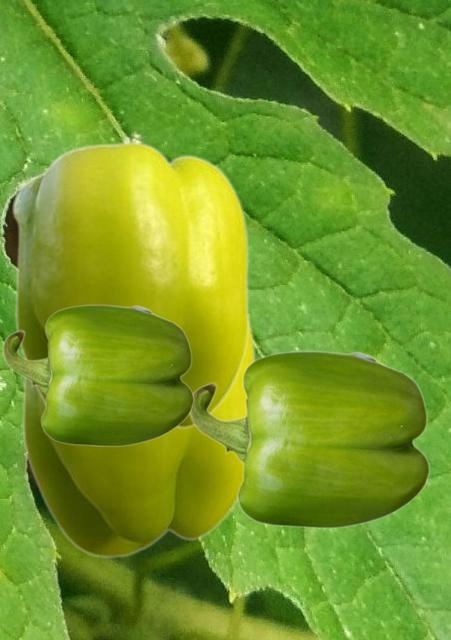bell_pepper: (11, 140, 248, 431), (20, 310, 255, 557), (189, 350, 429, 528), (2, 304, 193, 446)
